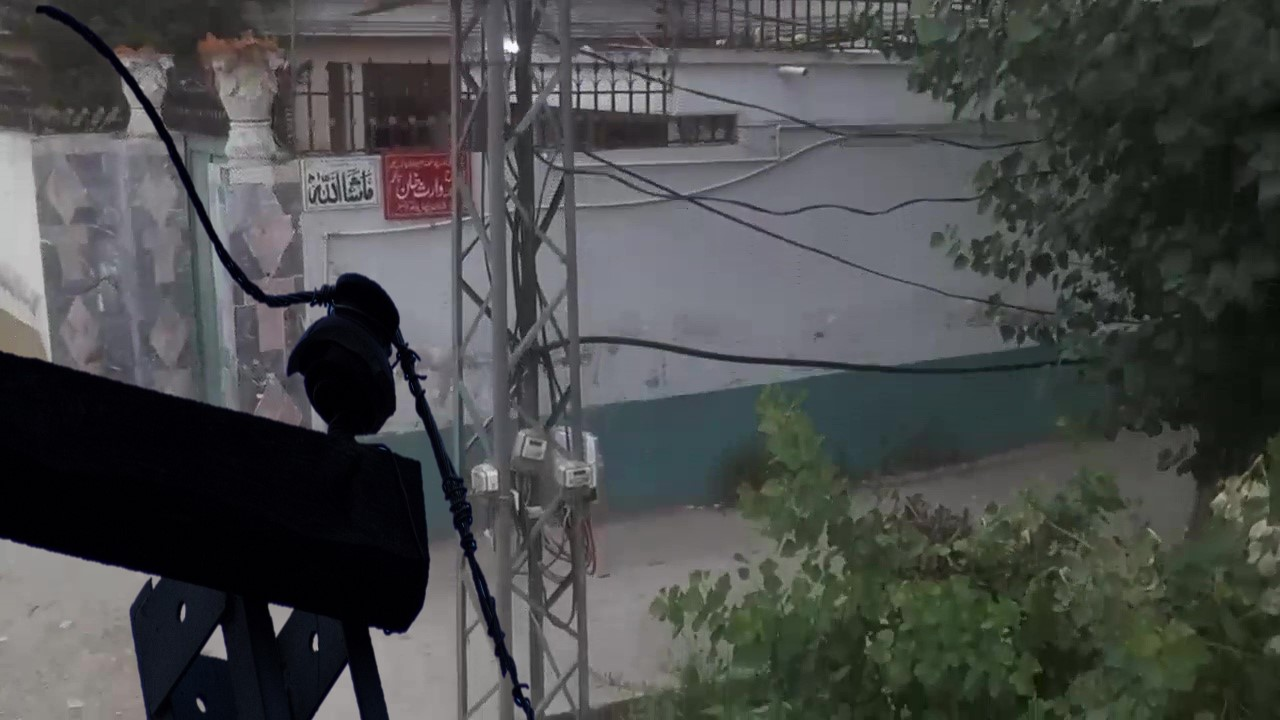defect_pin: (284, 265, 412, 442)
